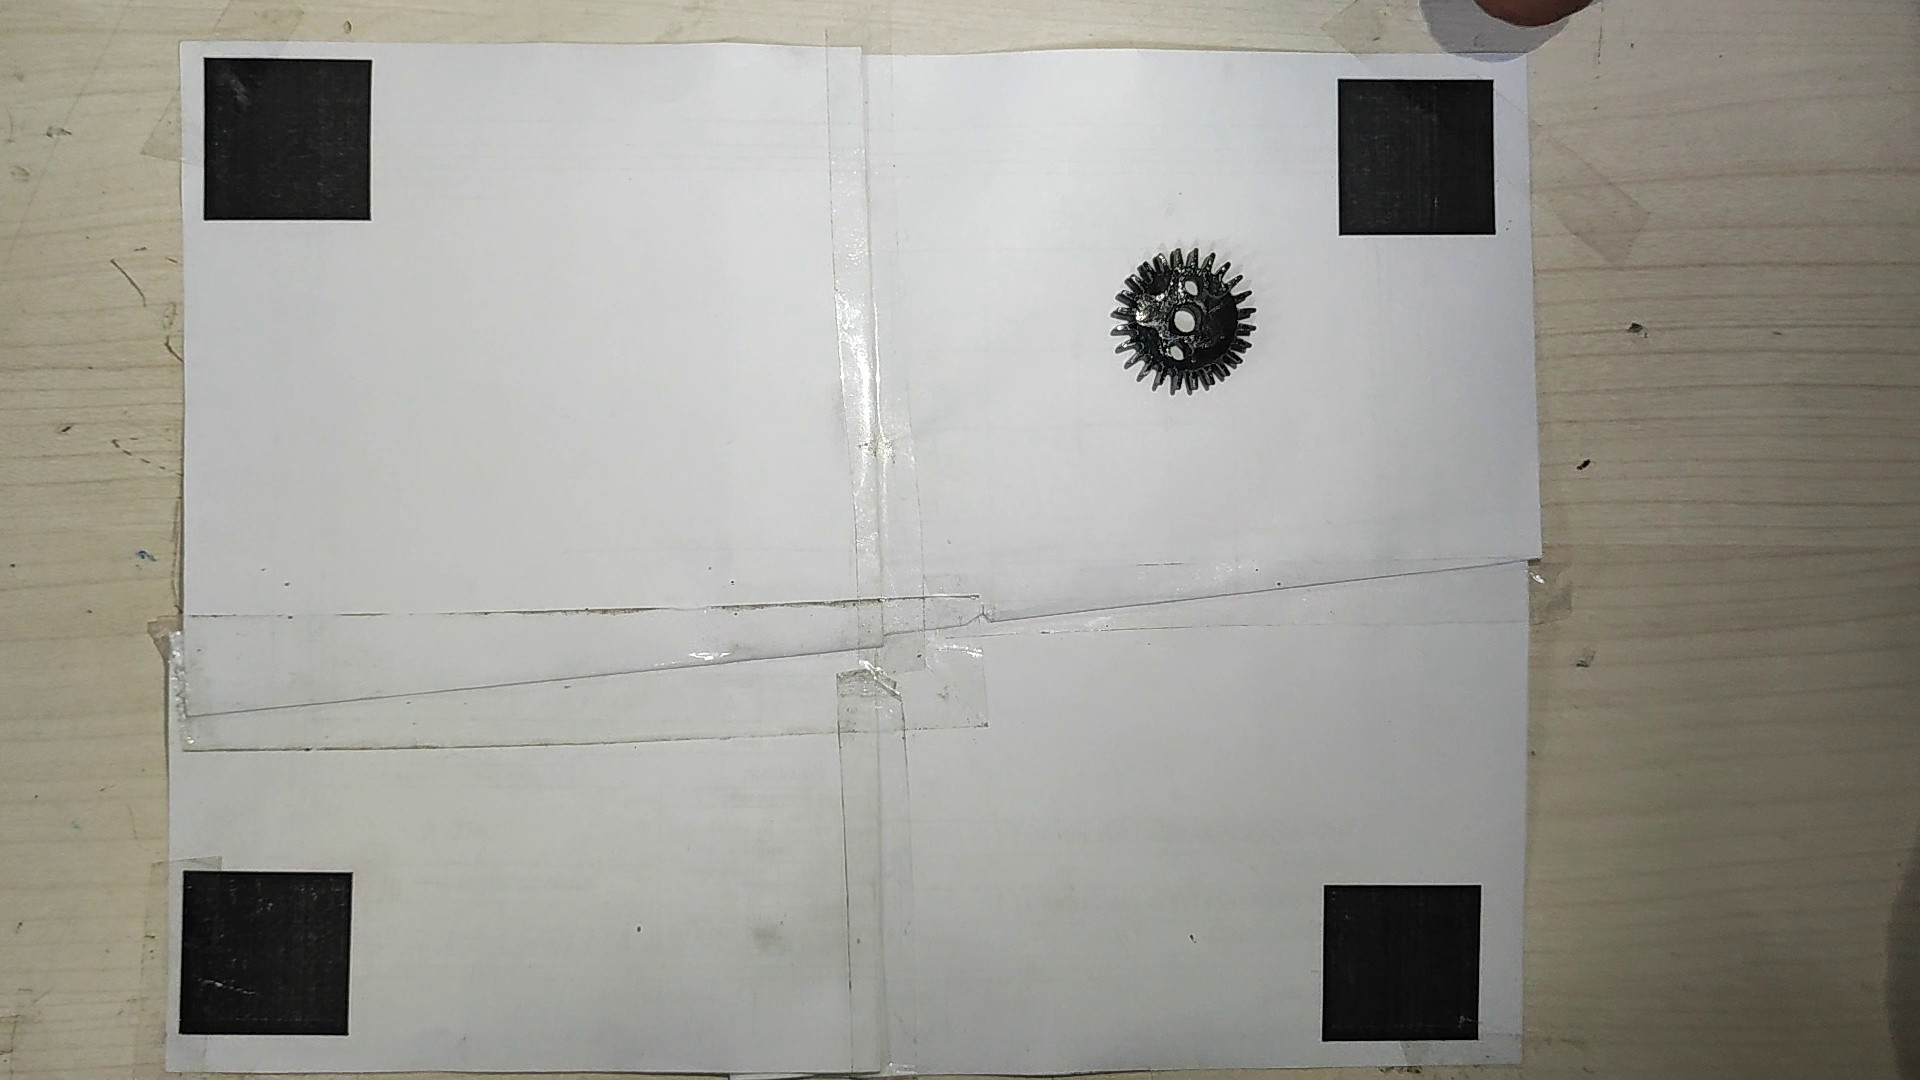Gear: (1108, 247, 1257, 396)
